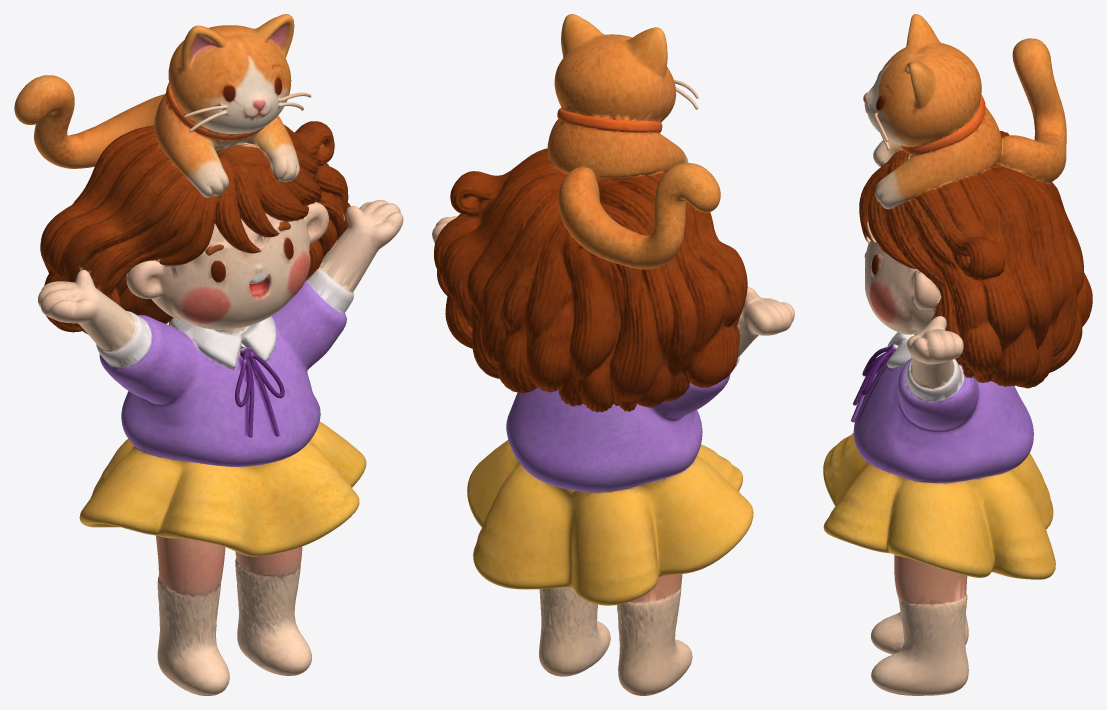
Rendered from duaa.glb.
3 renders of one model, left to right at view 1: azimuth 30°, elevation 25°; view 2: azimuth 150°, elevation 25°; view 3: azimuth 270°, elevation 25°, orthographic. The views are drawn at different scales.
Parts seen in each view (by area): view 1: Mesh_0; view 2: Mesh_0; view 3: Mesh_0.
Part boxes in pixels (box(x1,y1,x2,y2)): Mesh_0: box(14, 14, 403, 695); Mesh_0: box(432, 14, 794, 695); Mesh_0: box(823, 14, 1092, 695).
Bounding box in the file's own units: 1.08 × 1.9 × 0.7268.
1 material, 1 textured.
